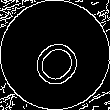O_NE: (22, 22, 88, 88)
